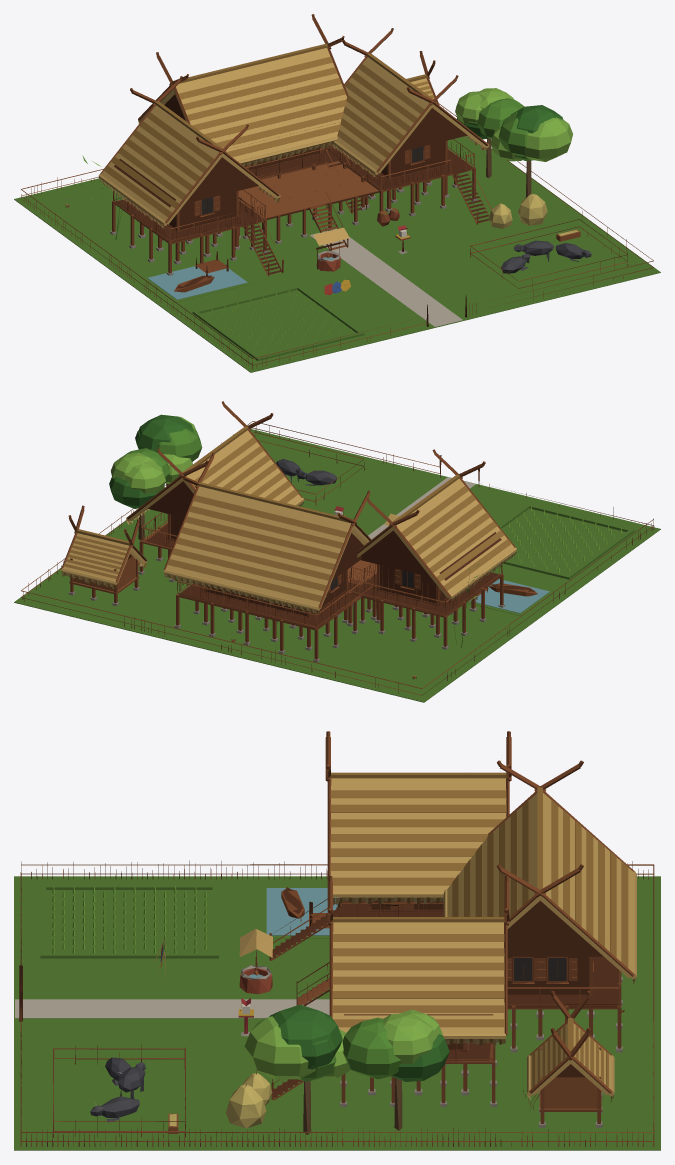
Rendered from home_5.glb.
3 views of the same model, one above another, from view 1: azimuth 30°, elevation 25°; view 2: azimuth 150°, elevation 25°; view 3: azimuth 270°, elevation 25° (orthographic). The views are drawn at different scales.
Visible parts, largest first — view 1: body; view 2: body; view 3: body, windows.
Part boxes in pixels (bbox=[...]): body: bbox=[14, 14, 660, 372]; body: bbox=[14, 401, 660, 702]; body: bbox=[14, 731, 660, 1150]; windows: bbox=[514, 958, 566, 980].
Size of the model in its own units: 32.48 by 10.79 by 31.9.
